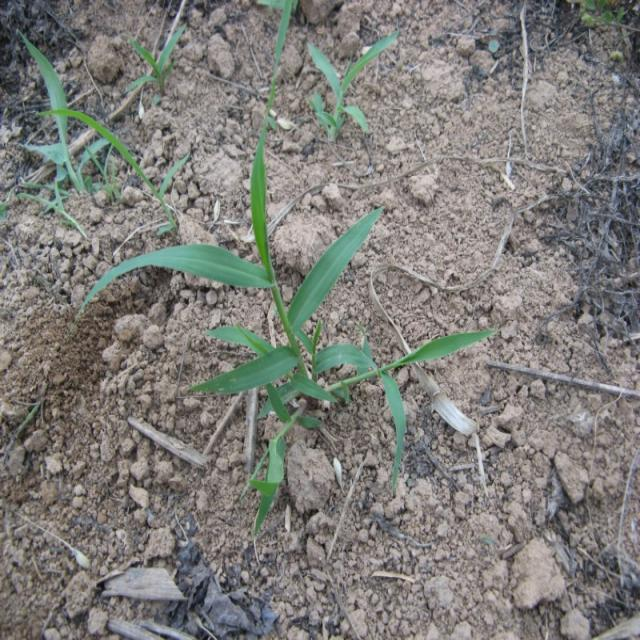bg: (82, 143, 490, 521)
